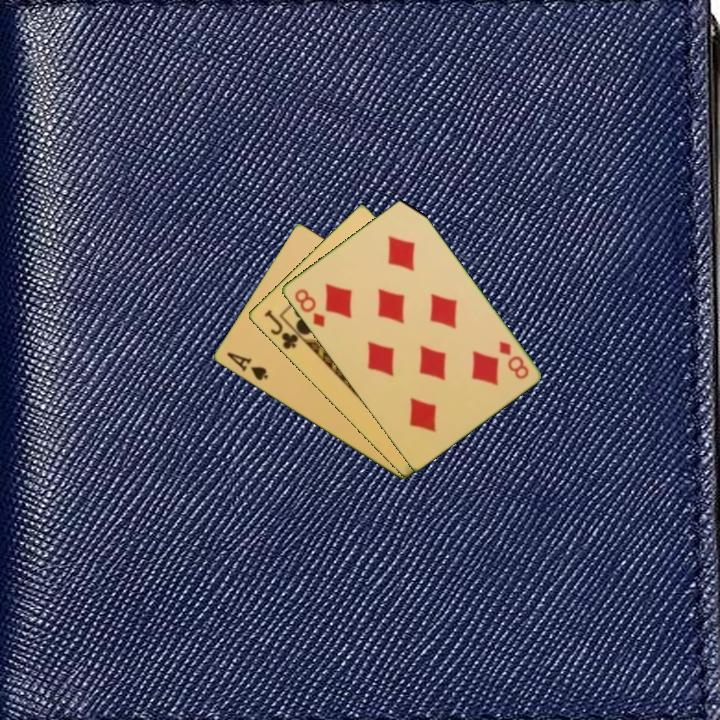8d: (291, 285, 328, 330), (495, 337, 532, 382)
As: (223, 348, 271, 384)
Jc: (260, 306, 307, 352)
